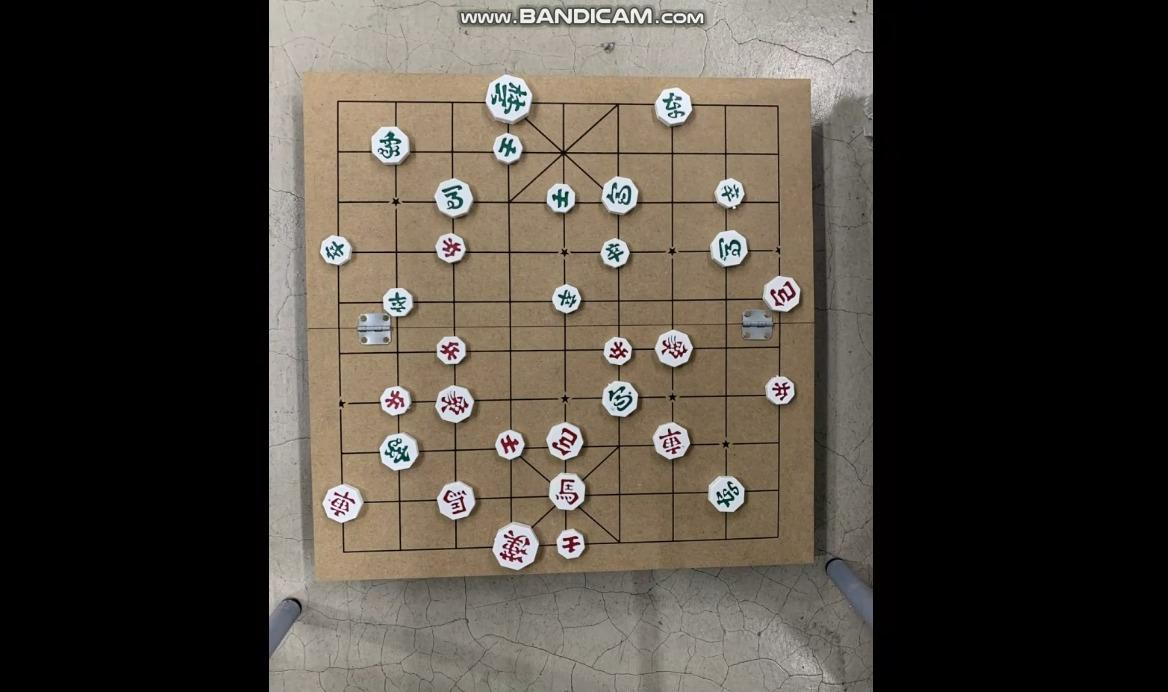cha_green: (653, 88, 692, 124), (708, 478, 748, 512)
cha_red: (323, 486, 364, 520), (651, 425, 691, 458)
jol_green: (714, 177, 748, 207), (320, 236, 355, 263), (383, 290, 416, 317), (551, 287, 583, 313), (600, 241, 631, 267)
jol_red: (435, 336, 469, 366), (434, 235, 468, 263), (379, 386, 412, 414), (764, 378, 798, 404), (603, 338, 634, 364)
ma_green: (435, 180, 474, 215), (709, 231, 749, 265)
ma_red: (437, 483, 477, 518), (550, 474, 588, 510)
po_green: (603, 178, 641, 214), (599, 382, 639, 416)
po_red: (548, 426, 586, 460), (763, 278, 802, 311)
sa_green: (546, 183, 576, 214), (492, 136, 525, 164)
sa_red: (495, 430, 527, 460), (555, 530, 588, 558)
sang_green: (371, 128, 411, 165), (377, 435, 419, 470)
sang_red: (435, 388, 476, 424), (653, 331, 692, 366)
wang_green: (487, 79, 534, 124)
wang_red: (493, 524, 539, 567)
